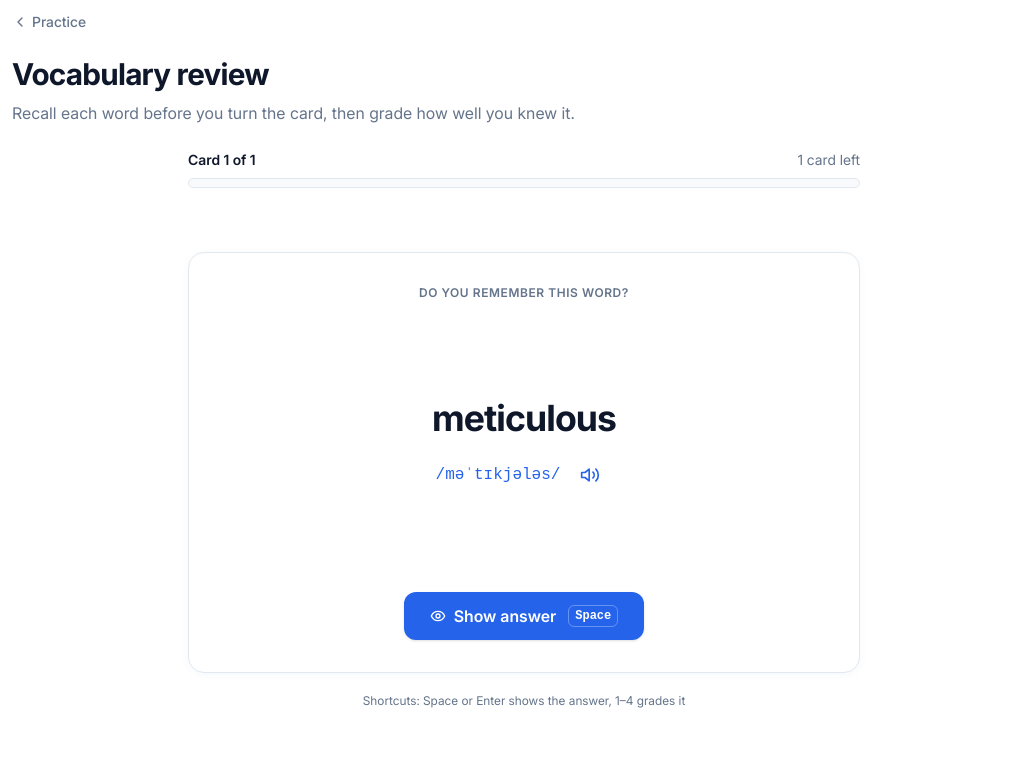
Test: ReviewPage SRS Session (P10.4) › flips card and grades using 4 grade buttons
Expected: the heading "meticulous" is shown, x1=432 y1=396 x2=616 y2=441
Click the button with aria-label "meticulous": point(524, 616) x1=404 y1=592 x2=644 y2=640
(page scrolled)
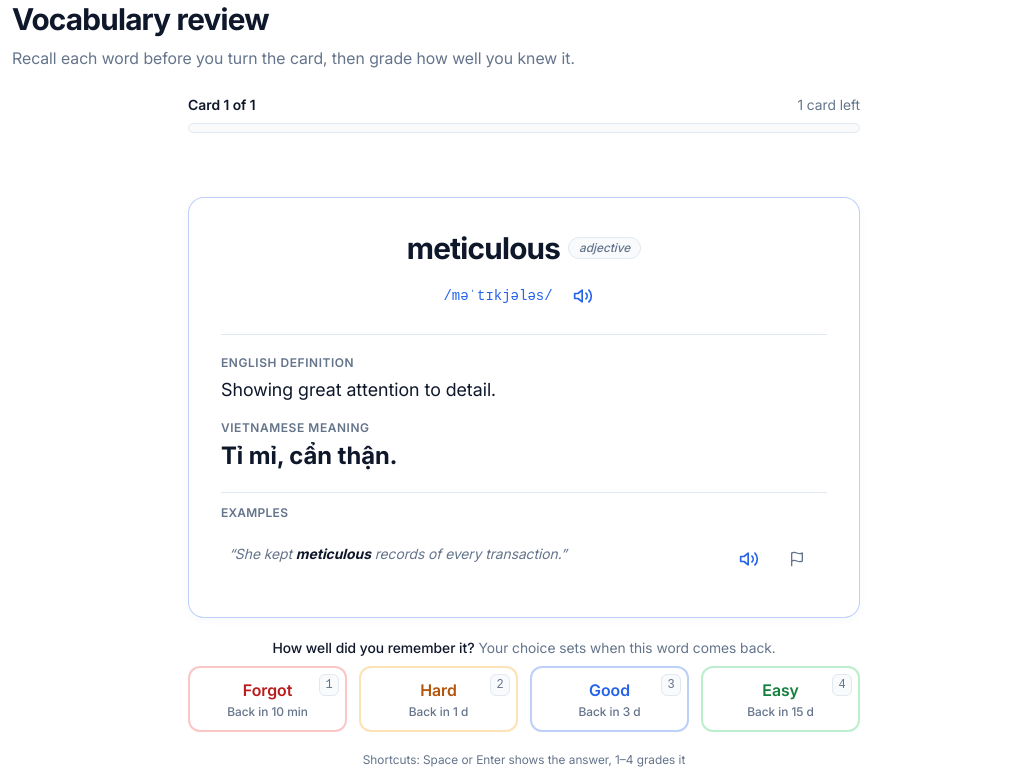
Expected: the text "Showing great attention to detail." is shown, x1=221 y1=378 x2=496 y2=400
Expected: the button "Good Back in 3 d 3" is shown
Click the button "Good Back in 3 d 3": point(610, 699) x1=530 y1=666 x2=689 y2=732
(page scrolled)
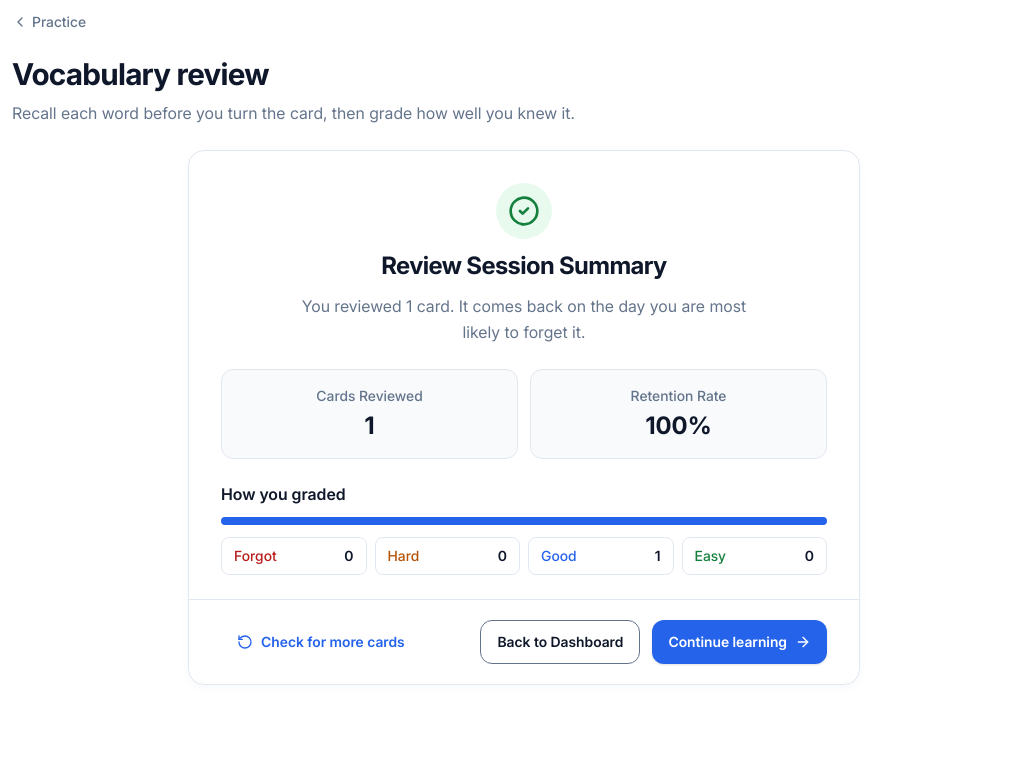
Expected: the heading "Review Session Summary" is shown, x1=381 y1=250 x2=667 y2=280
Expected: the text "Cards Reviewed" is shown, x1=316 y1=386 x2=423 y2=404
